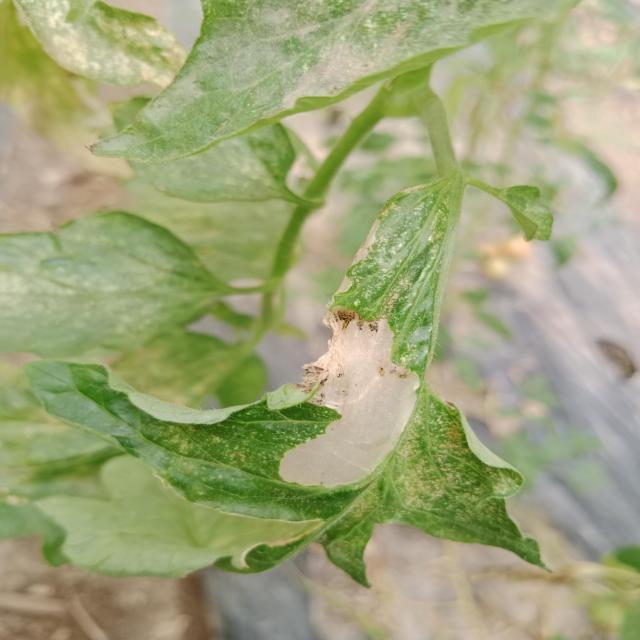Tuta absoluta: (277, 303, 434, 506)
